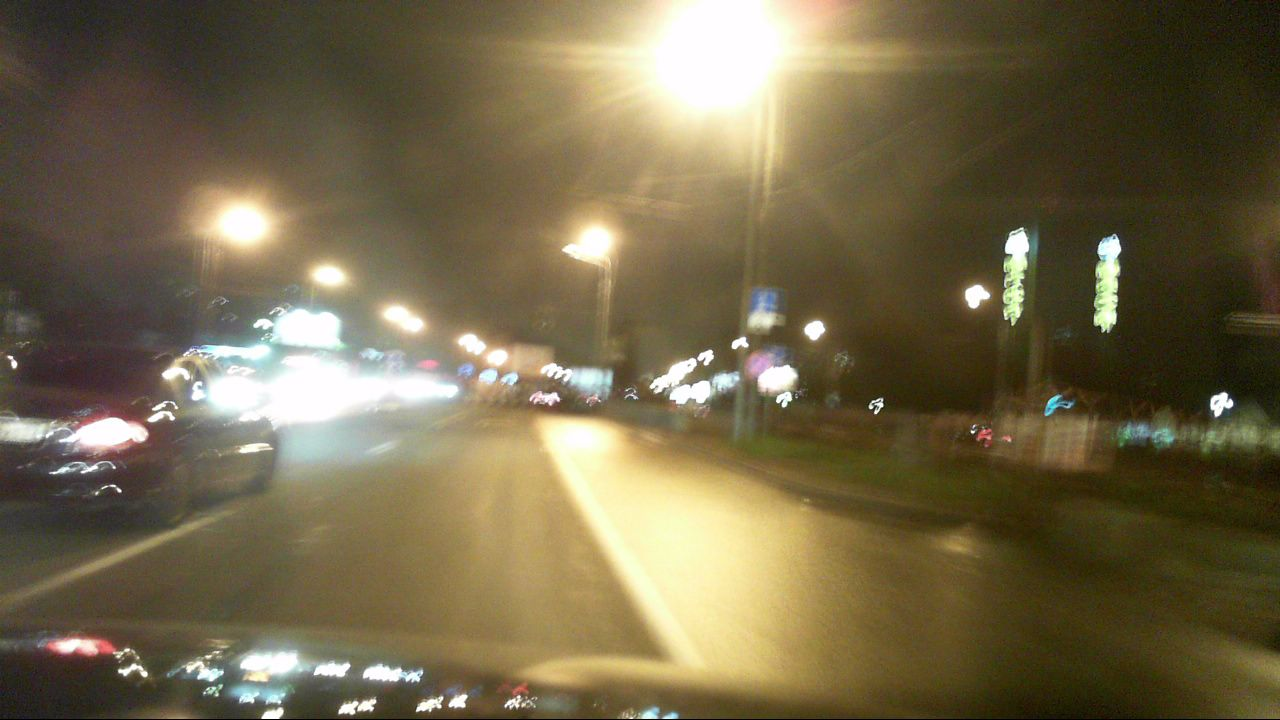No Parking: (745, 352, 768, 376)
